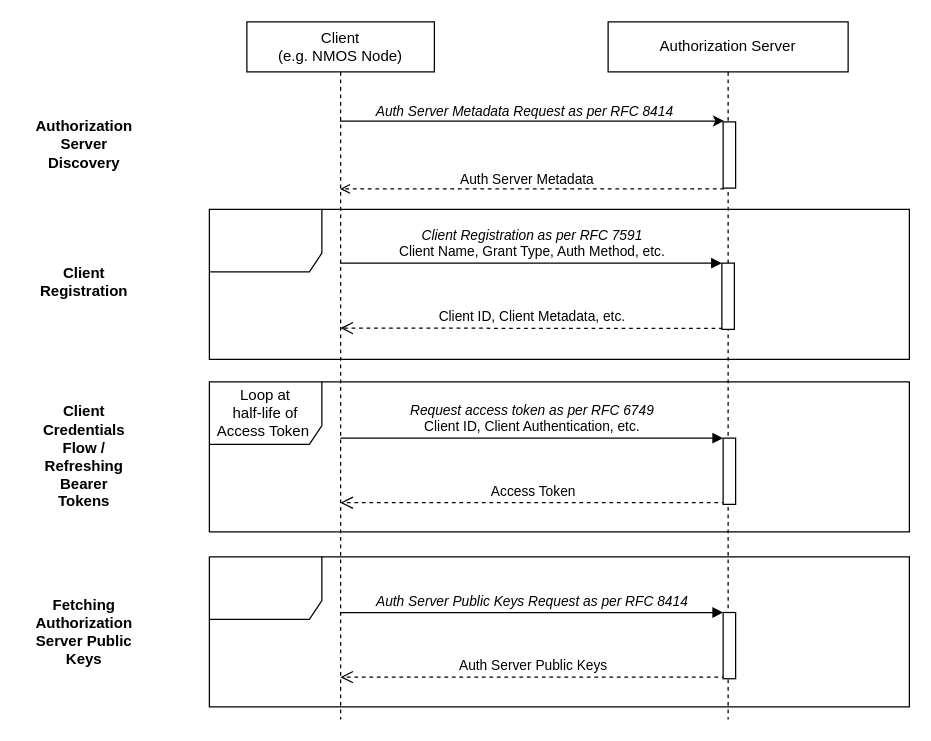
This 931x741 diagram has some shape labels left out. Here are the shapes that lost their labels. From the top down, the centre of each, then its label:
pixel 558 283: One time operation for Client set-up
pixel 558 631: Loop every hour
